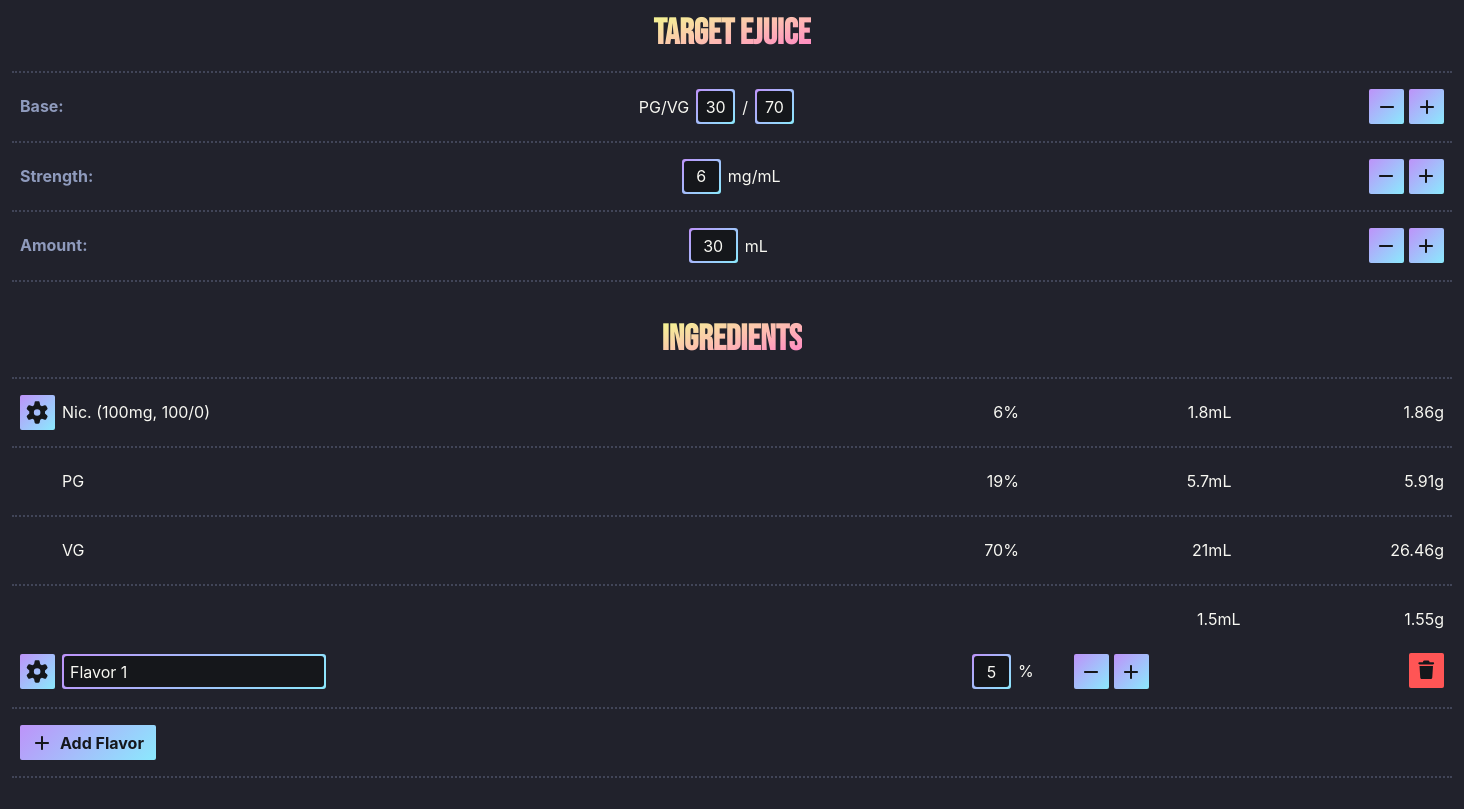
Scenario: PG › is calculated correctly from the flavor ratio
The width and height of the screenshot is (1464, 809).
Click the button with test id "flavor1ConfigBtn" at (38, 672), box x1=20 y1=654 x2=55 y2=689
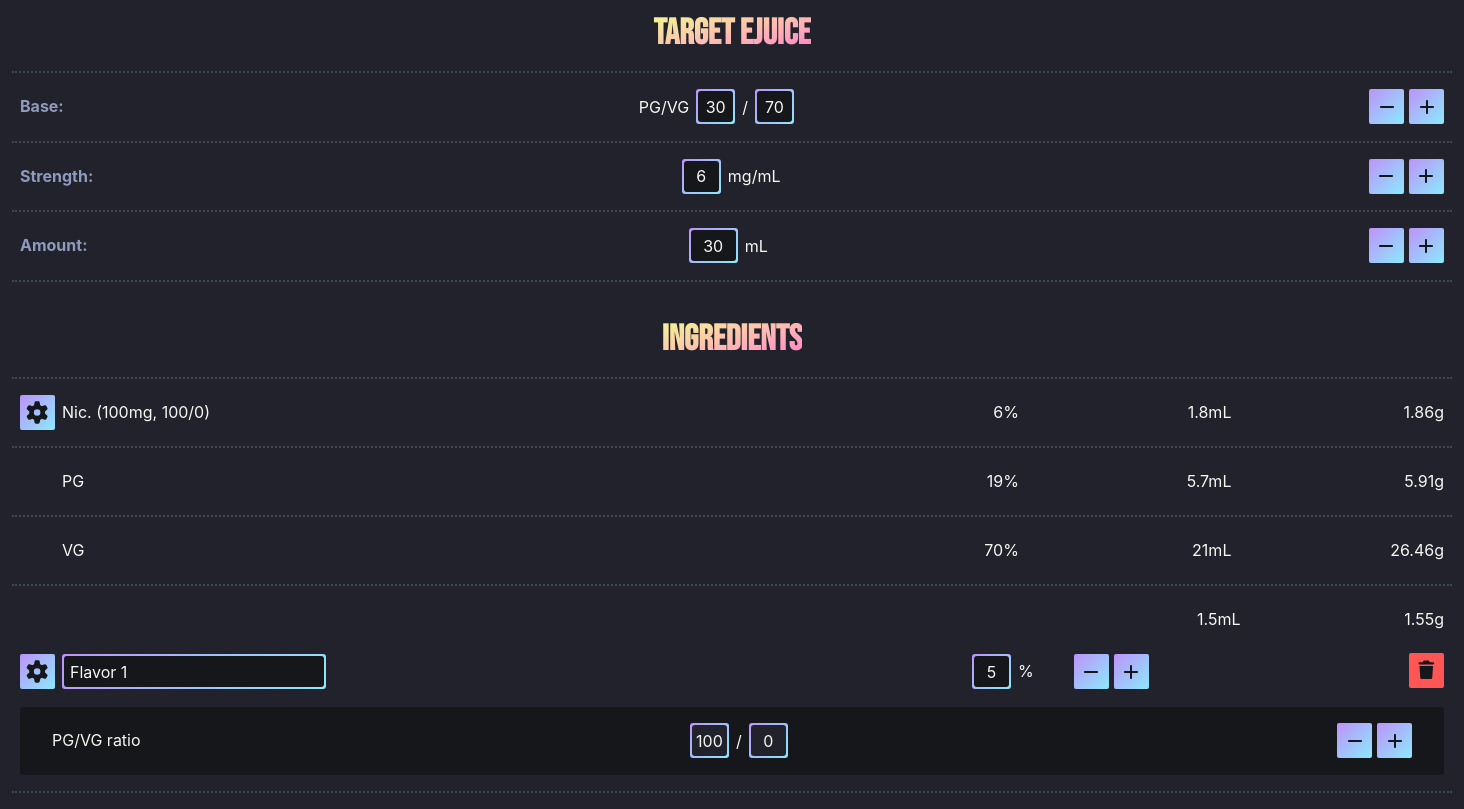
Replace the text in the number field with test id "flavor1ConfigPgInput" with "50" at (709, 740), box x1=692 y1=725 x2=727 y2=756
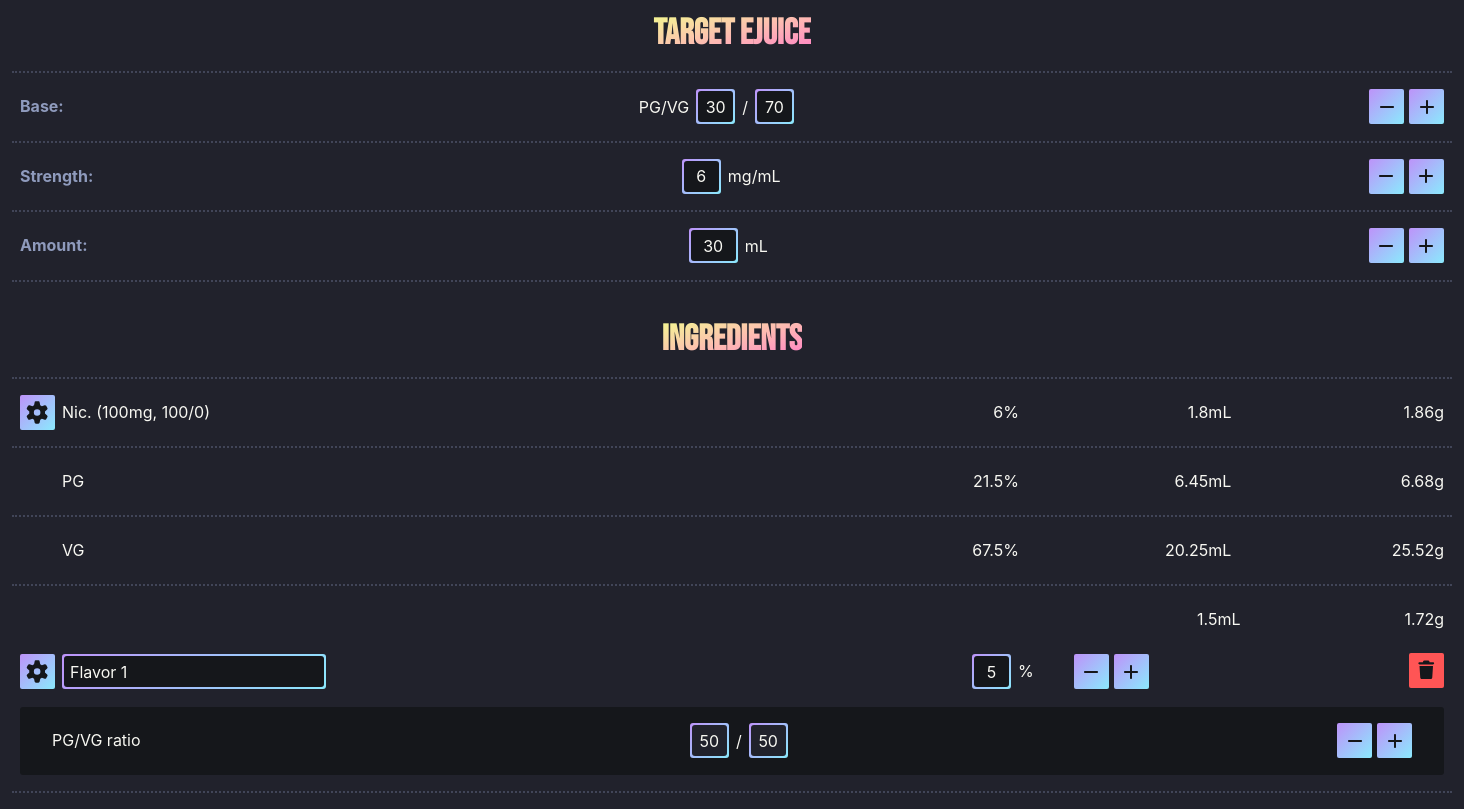
Expected: the text "6.45mL" is shown, x1=1174 y1=470 x2=1231 y2=490
Expected: the text "6.68g" is shown, x1=1401 y1=470 x2=1444 y2=490
